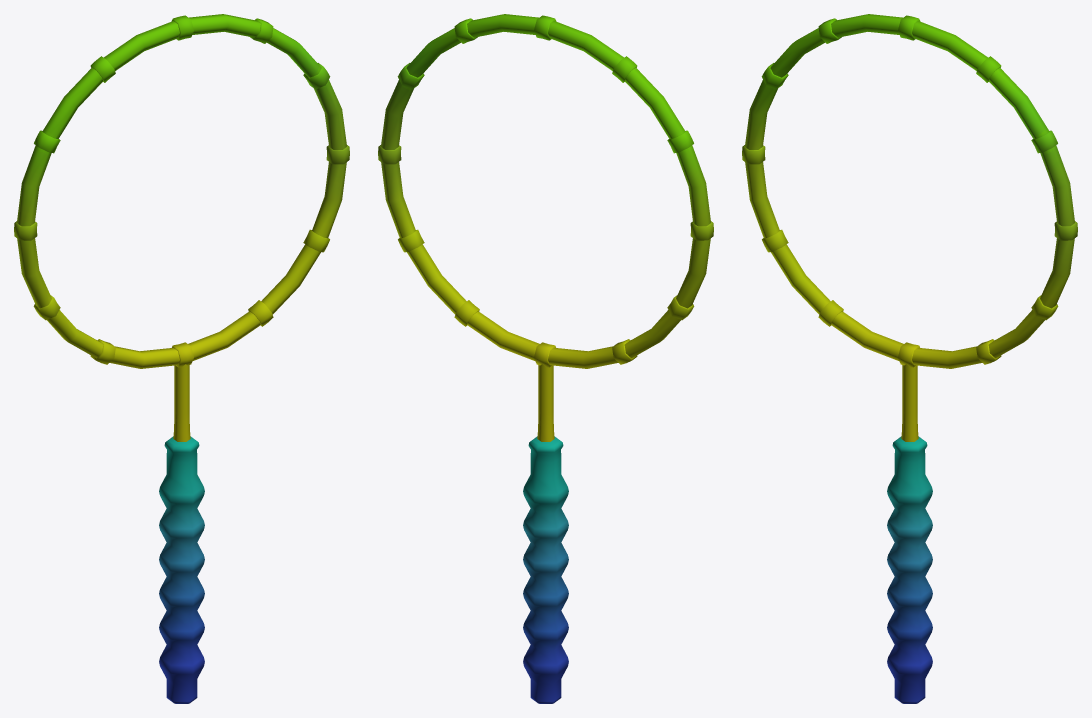
File: Wand.fbx
3 views of the same model, side by side, from view 1: azimuth 30°, elevation 25°; view 2: azimuth 150°, elevation 25°; view 3: azimuth 330°, elevation 25° (orthographic).
Parts seen in each view (by area): view 1: Wand; view 2: Wand; view 3: Wand.
Part boxes in pixels (bbox=[...]): Wand: bbox=[14, 14, 349, 703]; Wand: bbox=[378, 14, 713, 703]; Wand: bbox=[742, 14, 1077, 703].
Bounding box in the file's own units: 612 × 1207 × 73.71.
